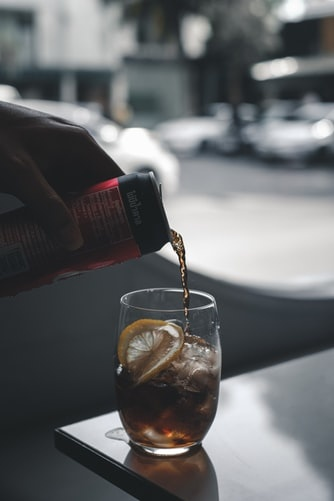whiskey: (113, 290, 222, 465)
